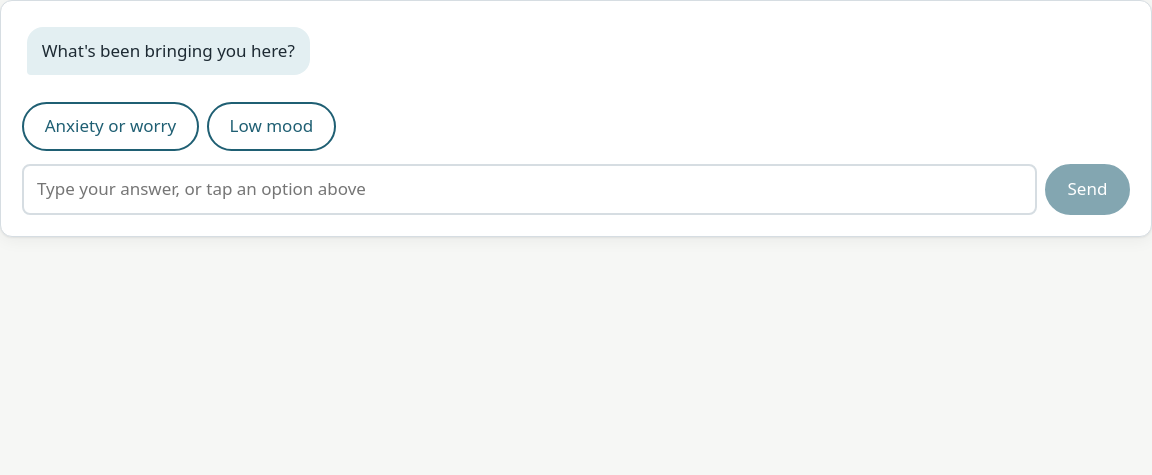
Test: IntakeStep › offers to retry the assistant and flags scripted mode
This screenshot has width=1152, height=475.
Type "anxiety" into the field labelled "Type your answer, or tap an option above" at (529, 189), box [22, 164, 1037, 215]
Then press Enter
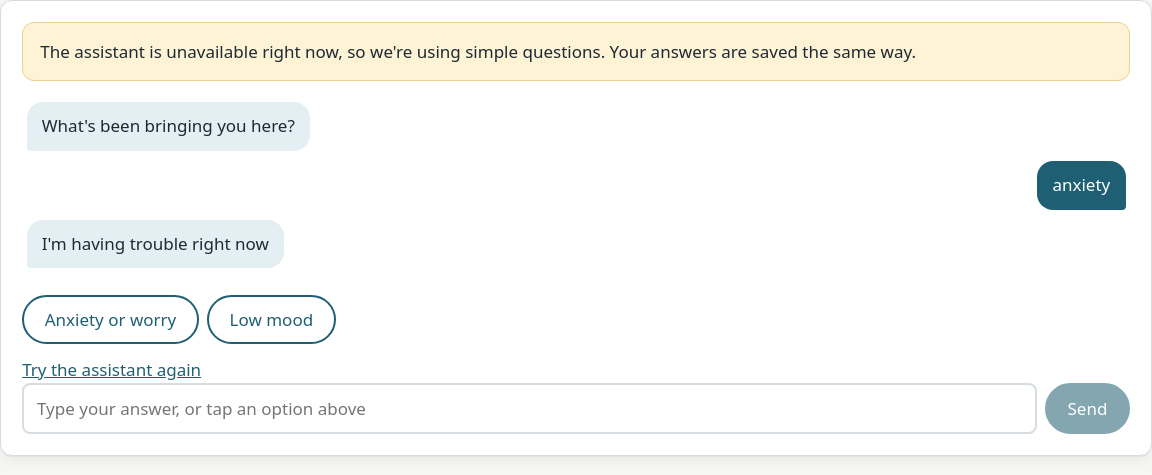
Check: the button "Try the assistant again" is shown, box [22, 357, 201, 383]
Check: the text "assistant is unavailable" is shown, box [40, 40, 916, 62]
